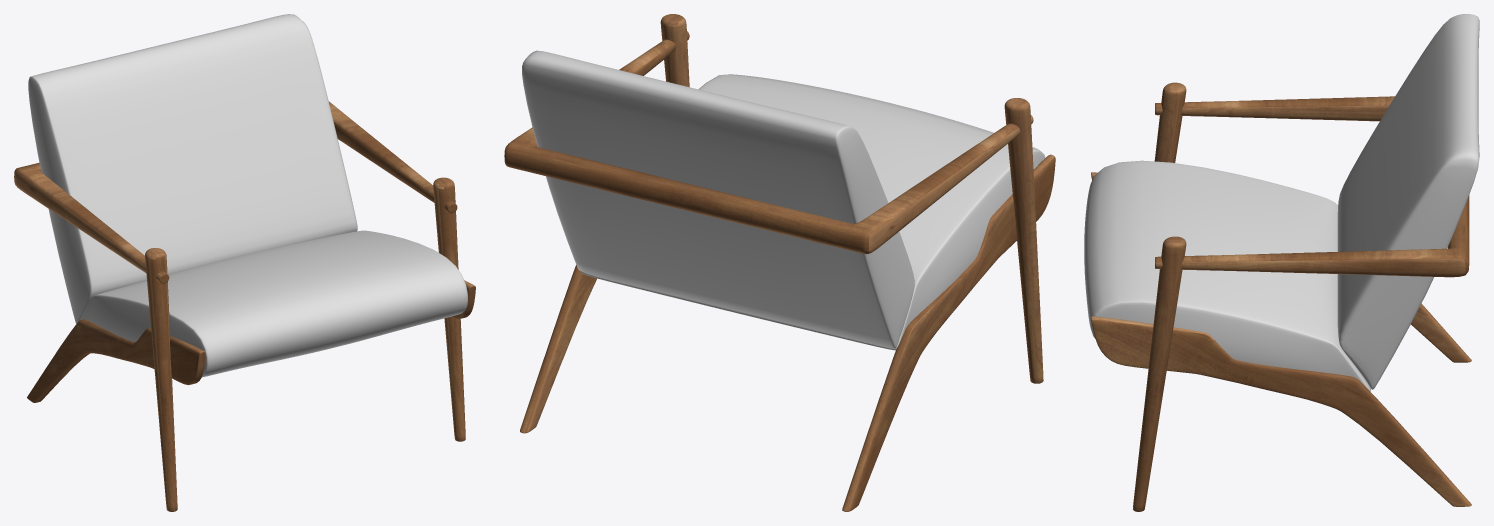
Rendered from poltrona.fbx.
The picture shows the model from 3 angles, left to right: view 1: azimuth 30°, elevation 25°; view 2: azimuth 150°, elevation 25°; view 3: azimuth 270°, elevation 25°; orthographic projection. The views are drawn at different scales.
Visible parts, largest first — view 1: Wooden armchair; view 2: Wooden armchair; view 3: Wooden armchair.
Boxes of the visible parts, x1,y1,x2,y2 form: Wooden armchair: (14, 14, 475, 511); Wooden armchair: (504, 14, 1055, 511); Wooden armchair: (1084, 14, 1479, 511).
Size of the model in its own units: 79.71 by 79.25 by 81.29.
Materials: 2 (1 with a texture image).
